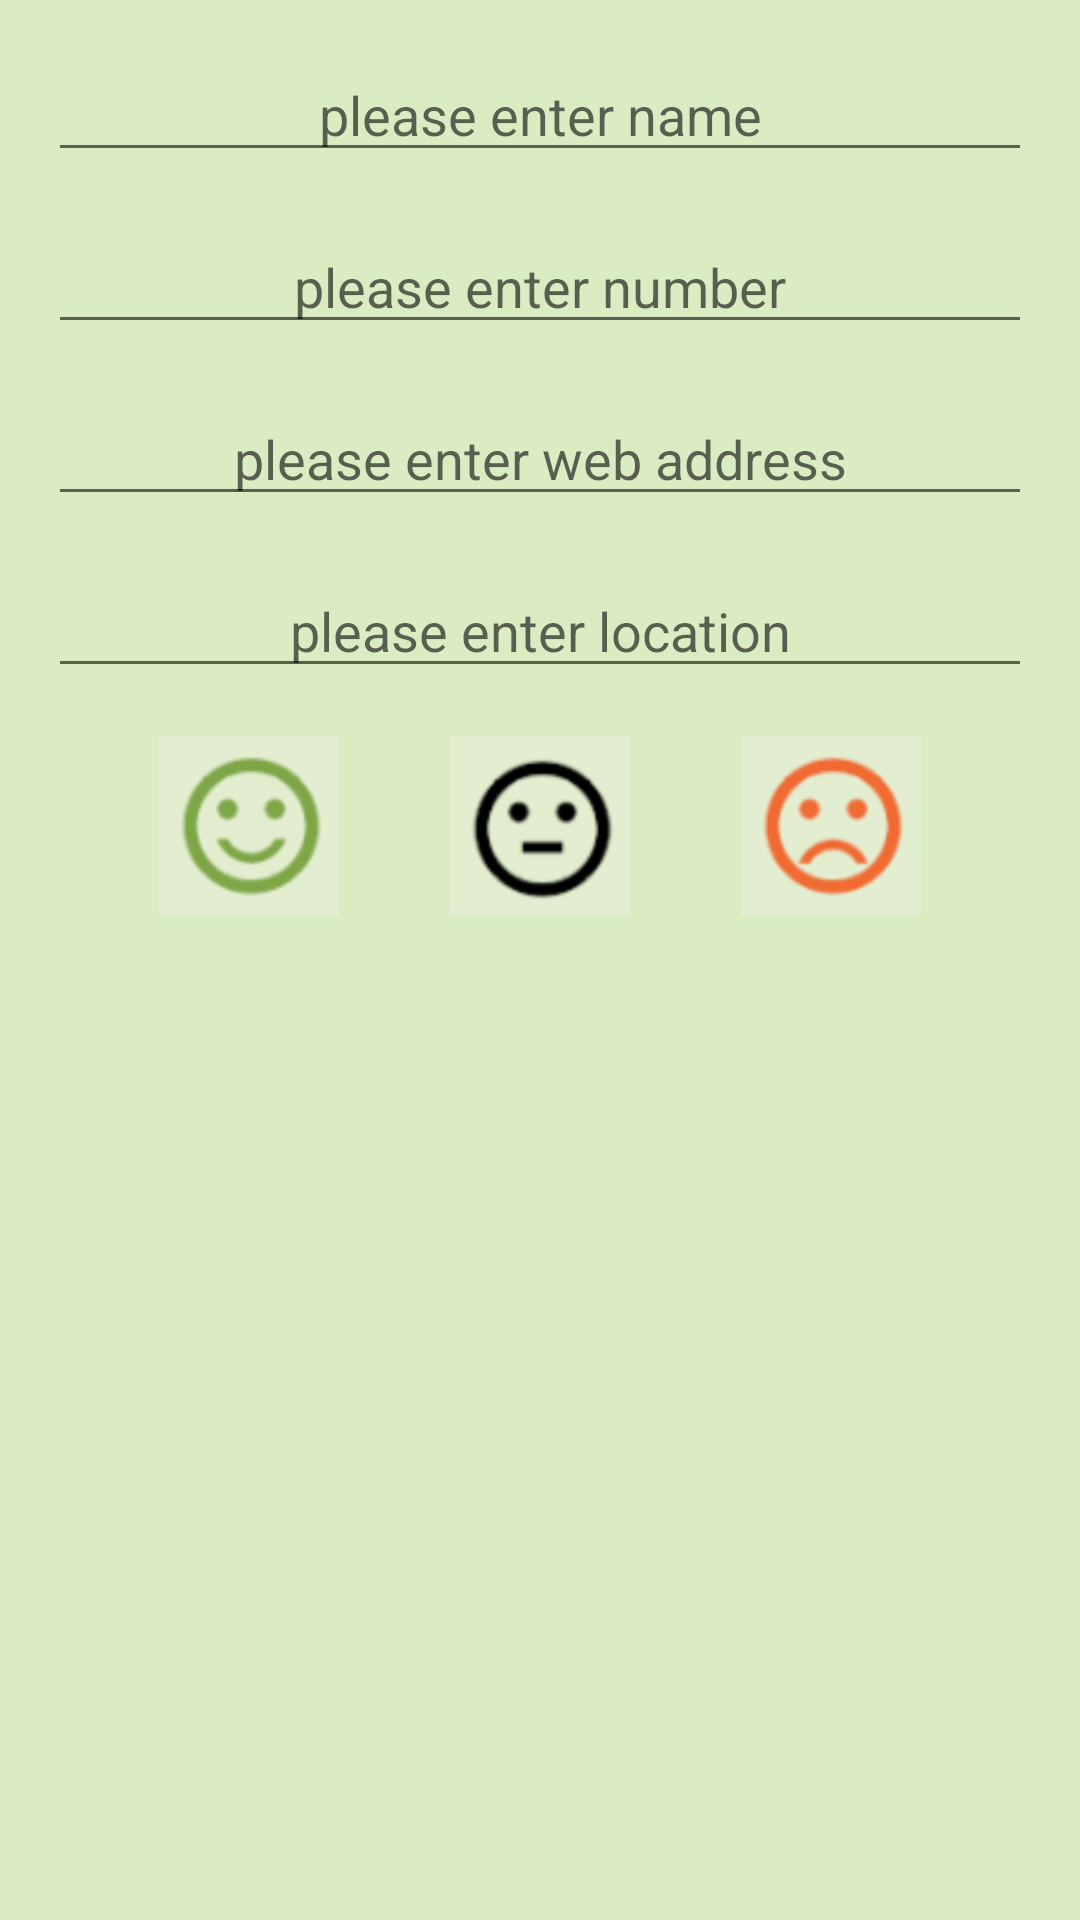

Named icons in this screenshot (1080w x 1920h) and their centers, point (x, y):
negative: point (831, 826)
neutral: point (540, 826)
positive: point (249, 826)
